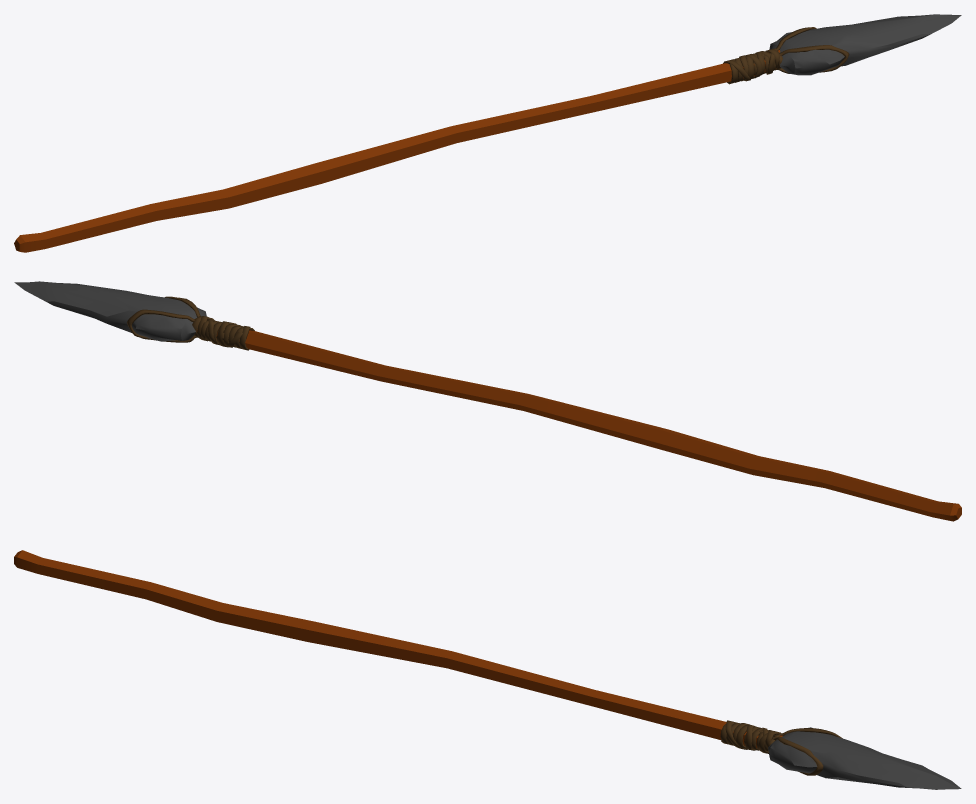
File: Hand_Weapon_2.fbx
3 views of the same model, one above another, from view 1: azimuth 30°, elevation 25°; view 2: azimuth 150°, elevation 25°; view 3: azimuth 330°, elevation 25° (orthographic).
Parts seen in each view (by area): view 1: Hand Weapon; view 2: Hand Weapon; view 3: Hand Weapon.
Part boxes in pixels (<box>): Hand Weapon: <box>14,14,961,252</box>; Hand Weapon: <box>14,281,961,521</box>; Hand Weapon: <box>14,550,961,789</box>.
Bounding box in the file's own units: 2083 × 63.76 × 137.
